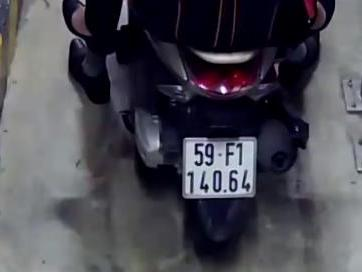num_plate: (183, 135, 258, 199)
